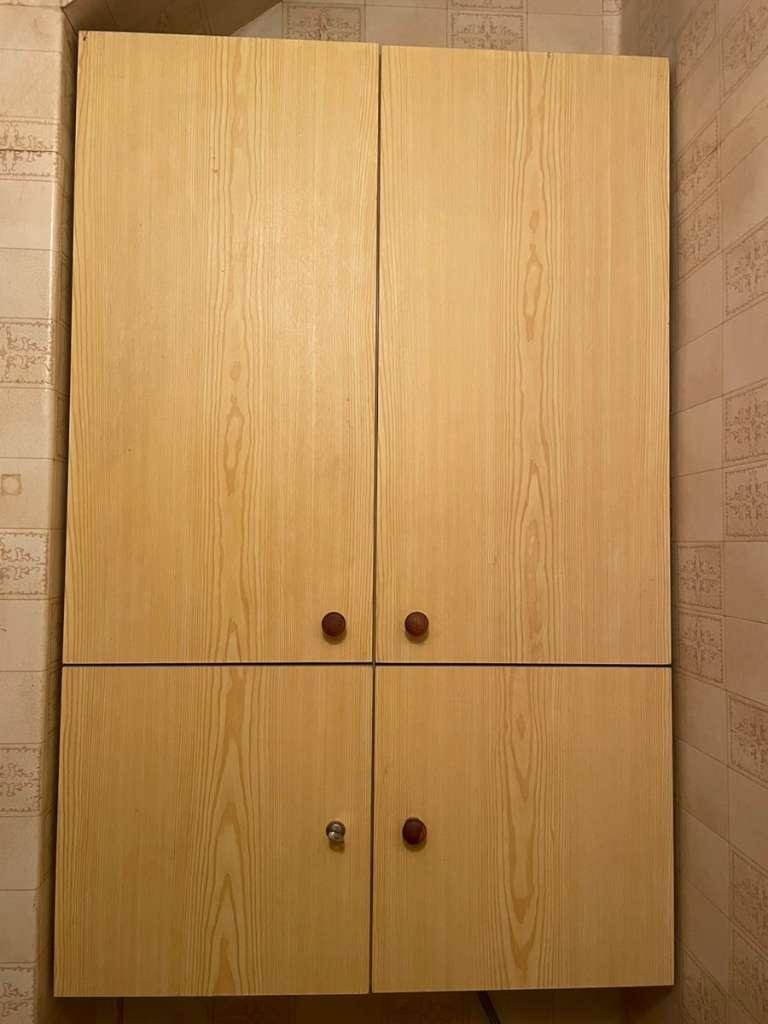cabinet_door: (71, 36, 373, 663), (380, 57, 669, 668), (60, 672, 368, 1002), (378, 672, 673, 997)
handle: (397, 813, 438, 857), (319, 603, 351, 651), (402, 605, 433, 650), (320, 813, 352, 855)
